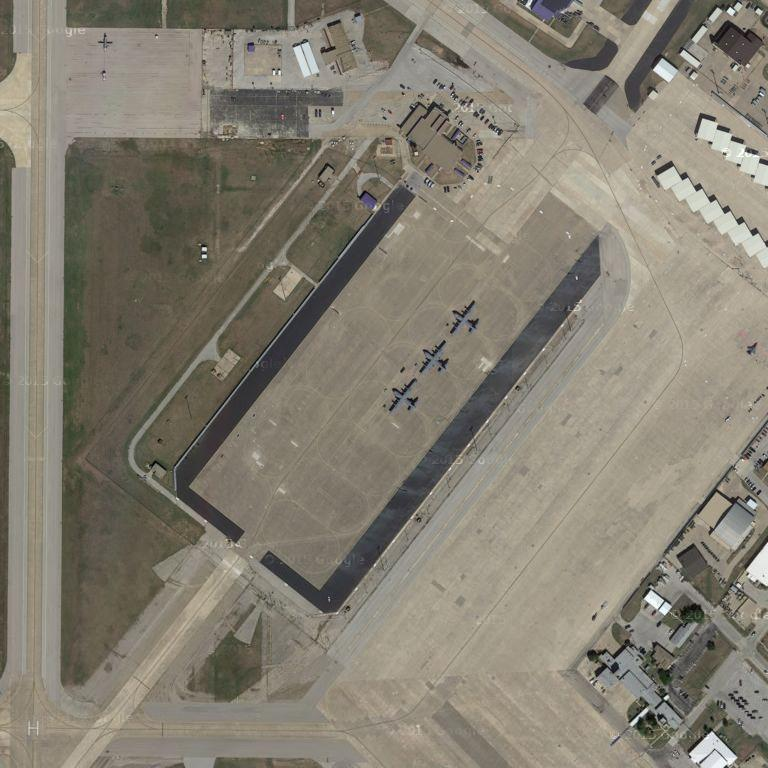C-130: (384, 378, 425, 415), (446, 299, 483, 338), (417, 340, 452, 379)
